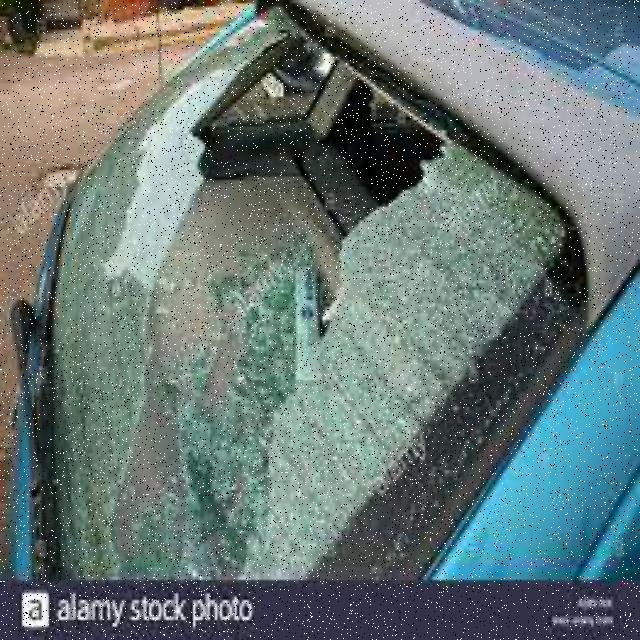Rear-windscreen-Damage: (16, 4, 536, 580)
